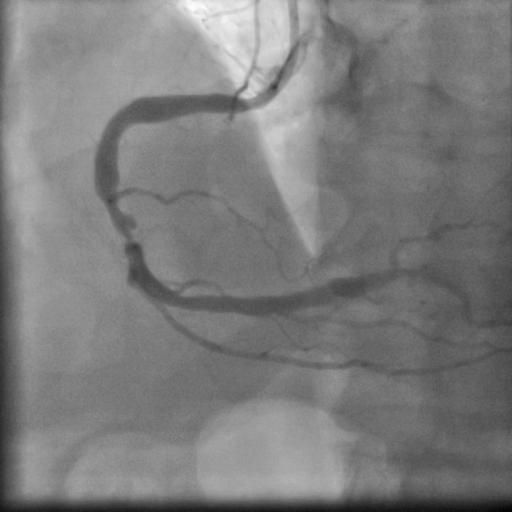Stenosis: (102, 206, 142, 250)
